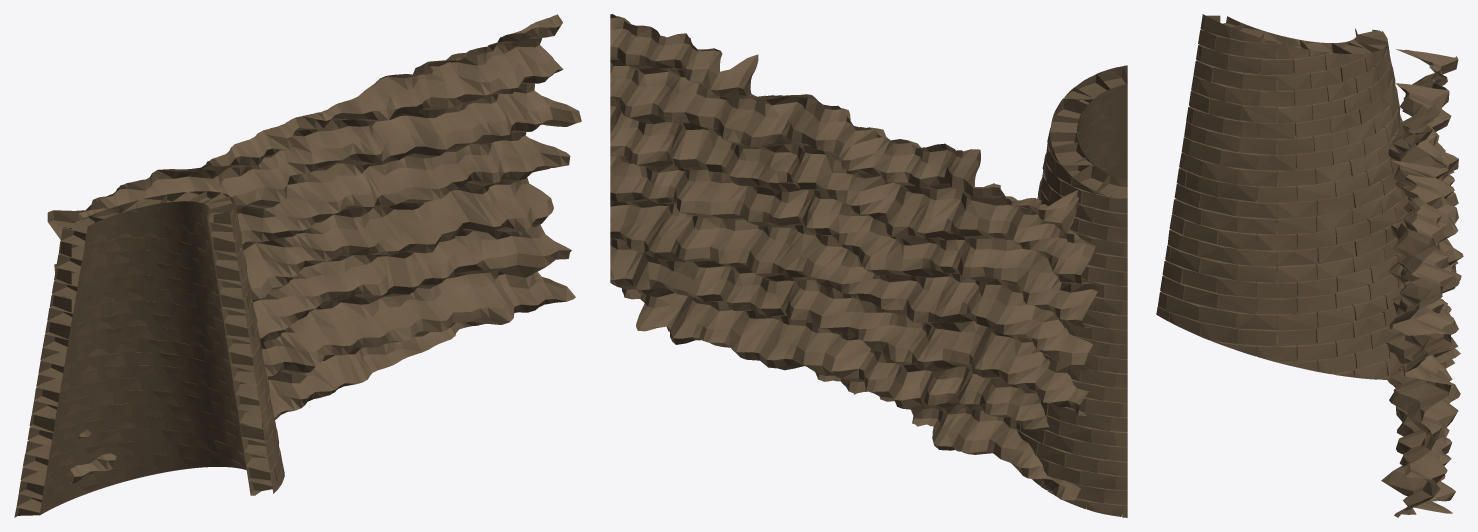
Rendered from temple02_lod1.glb.
The picture shows the model from 3 angles, left to right: view 1: azimuth 30°, elevation 25°; view 2: azimuth 150°, elevation 25°; view 3: azimuth 270°, elevation 25°; orthographic projection. The views are drawn at different scales.
Parts seen in each view (by area): view 1: TEMPLE02_original_v5.001; view 2: TEMPLE02_original_v5.001; view 3: TEMPLE02_original_v5.001.
Boxes of the visible parts, x1,y1,x2,y2 form: TEMPLE02_original_v5.001: [14, 14, 581, 517]; TEMPLE02_original_v5.001: [610, 14, 1127, 517]; TEMPLE02_original_v5.001: [1156, 14, 1463, 517].
Bounding box in the file's own units: 5.65 × 3.73 × 2.56.
